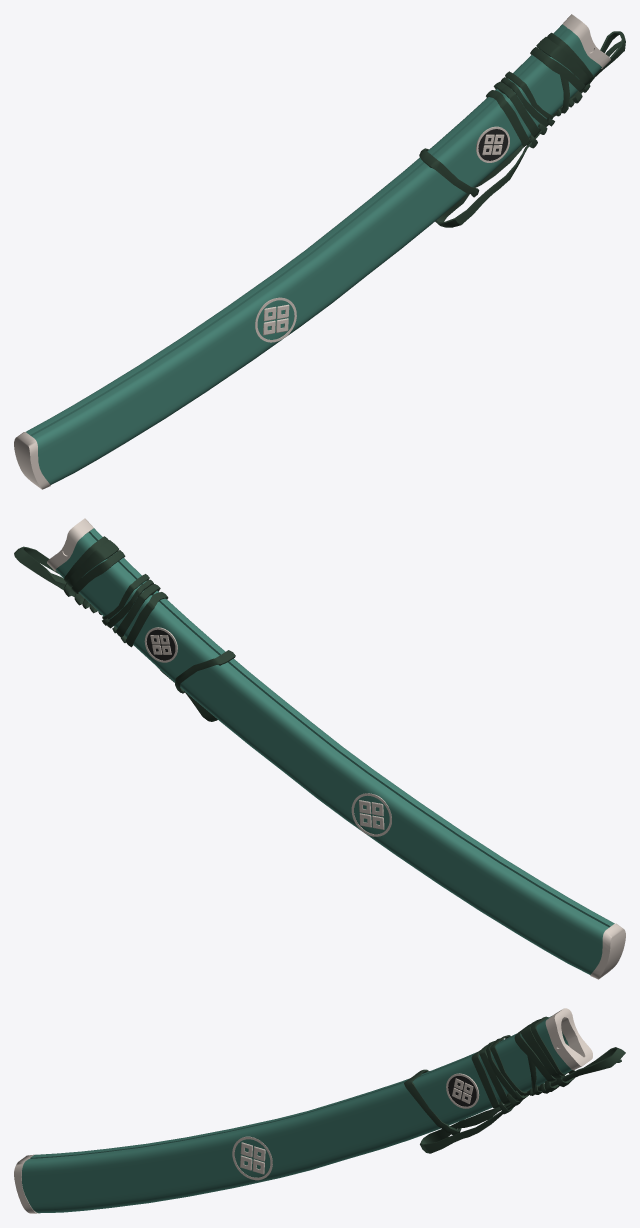
The model's file is scabbard.fbx.
The picture shows the model from 3 angles, top to bottom: view 1: azimuth 30°, elevation 25°; view 2: azimuth 150°, elevation 25°; view 3: azimuth 330°, elevation 25°; orthographic projection. The views are drawn at different scales.
Parts seen in each view (by area): view 1: Cube.011, Plane.008, Plane.010, Plane.014, Cylinder.003, Cube.013, Cube.012; view 2: Cube.011, Plane.008, Plane.010, Cylinder.003, Plane.014, Cube.013, Cube.012; view 3: Cube.011, Plane.014, Plane.008, Plane.010, Cube.012, Cylinder.003, Plane.012, Cube.013, Cylinder.005.
Boxes of the visible parts, box(x1,y1,x2,y2) form: Cube.011: box(26, 24, 601, 484); Plane.008: box(486, 32, 593, 146); Plane.010: box(419, 37, 590, 197); Plane.014: box(435, 31, 625, 227); Cylinder.003: box(255, 126, 509, 342); Cube.013: box(14, 432, 50, 489); Cube.012: box(562, 14, 610, 68); Cube.011: box(56, 528, 614, 974); Plane.008: box(64, 536, 168, 647); Plane.010: box(66, 540, 235, 693); Cylinder.003: box(144, 627, 391, 836); Plane.014: box(14, 546, 217, 721); Cube.013: box(590, 923, 625, 979); Cube.012: box(47, 518, 93, 571); Cube.011: box(22, 1016, 571, 1213); Plane.014: box(420, 1047, 625, 1153); Plane.008: box(471, 1016, 569, 1108); Plane.010: box(404, 1018, 563, 1134); Cube.012: box(545, 1008, 592, 1070); Cylinder.003: box(232, 1073, 479, 1180); Plane.012: box(499, 1070, 574, 1114); Cube.013: box(14, 1154, 39, 1213); Cylinder.005: box(448, 1076, 476, 1106).
Size of the model in its own units: 1004 by 528 by 65.7.
